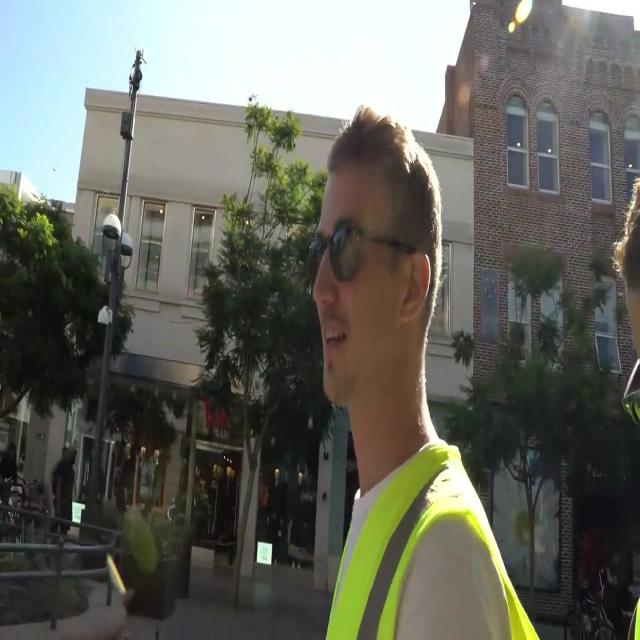Reflective-Jacket: (316, 429, 540, 640)
